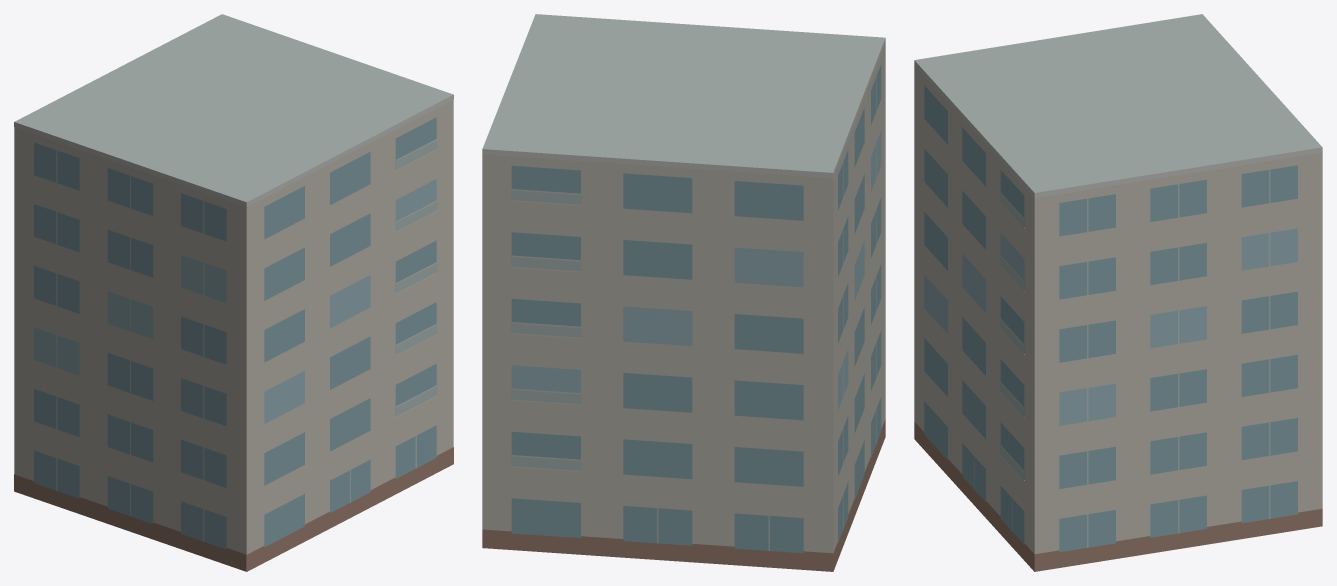
Rendered from survey-upis-32853624.glb.
3 renders of one model, left to right at view 1: azimuth 30°, elevation 25°; view 2: azimuth 150°, elevation 25°; view 3: azimuth 270°, elevation 25°, orthographic. The views are drawn at different scales.
Parts seen in each view (by area): view 1: survey-upis-32853624.tmp; view 2: survey-upis-32853624.tmp; view 3: survey-upis-32853624.tmp.
Part boxes in pixels (x1,y1,x2,y2): survey-upis-32853624.tmp: (14, 14, 453, 571); survey-upis-32853624.tmp: (482, 14, 885, 571); survey-upis-32853624.tmp: (914, 14, 1322, 571).
Bounding box in the file's own units: 18.54 × 18.3 × 17.88.
